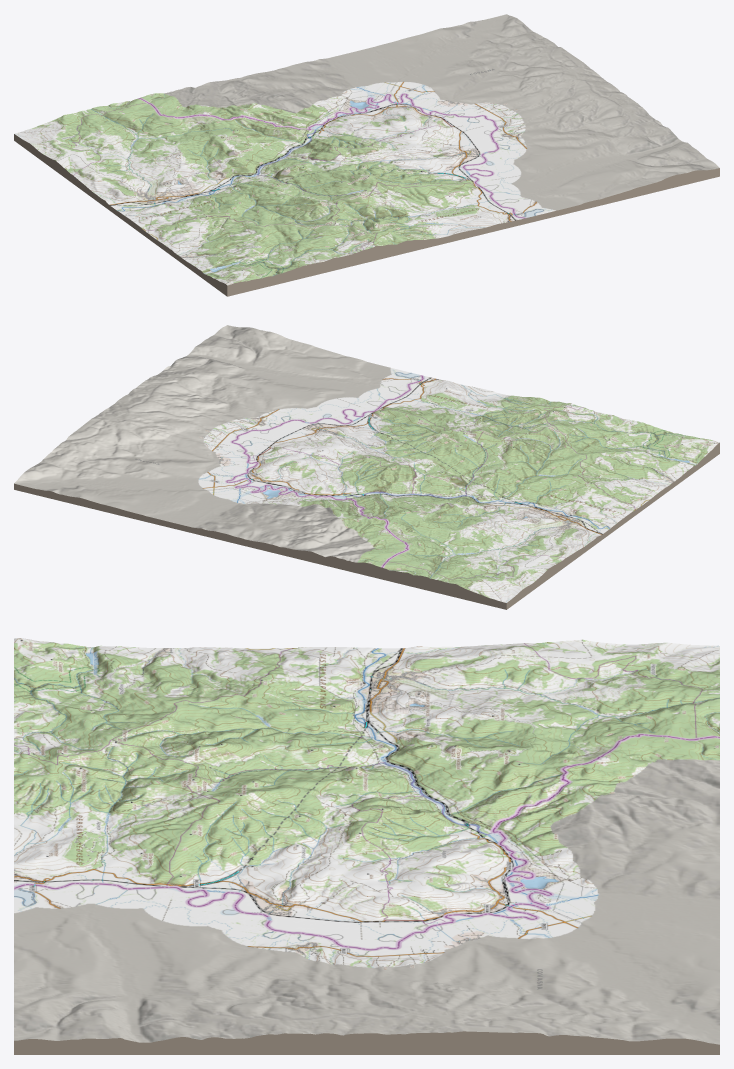
The picture shows the model from 3 angles, top to bottom: view 1: azimuth 30°, elevation 25°; view 2: azimuth 150°, elevation 25°; view 3: azimuth 270°, elevation 25°; orthographic projection. The views are drawn at different scales.
Parts seen in each view (by area): view 1: BV50-B4 Racoș; view 2: BV50-B4 Racoș; view 3: BV50-B4 Racoș.
Boxes of the visible parts, <box> form: BV50-B4 Racoș: <box>14,14,719,296</box>; BV50-B4 Racoș: <box>14,325,719,609</box>; BV50-B4 Racoș: <box>14,638,719,1054</box>.
Bounding box in the file's own units: 20000 × 734 × 15000.
Materials: 6 (1 with a texture image).
